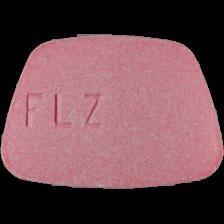59762-5018: (0, 0, 224, 224)
